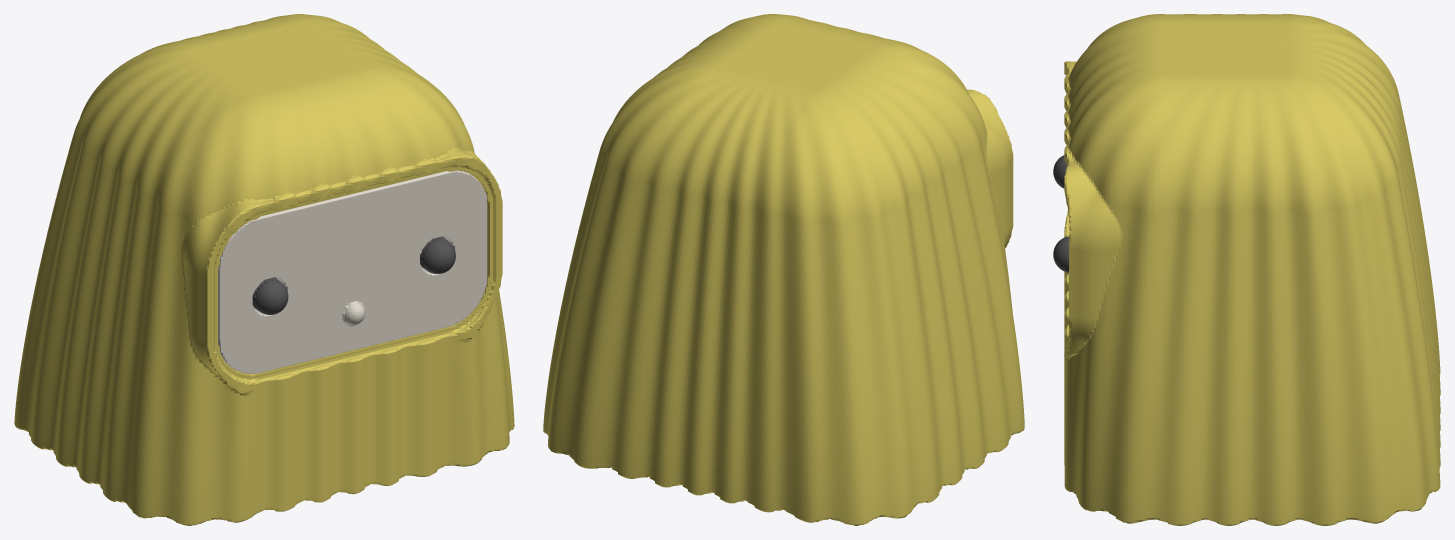
The model's file is bloki_huevo.glb.
3 views of the same model, side by side, from view 1: azimuth 30°, elevation 25°; view 2: azimuth 150°, elevation 25°; view 3: azimuth 270°, elevation 25° (orthographic). The views are drawn at different scales.
Parts seen in each view (by area): view 1: world; view 2: world; view 3: world.
Boxes of the visible parts, x1,y1,x2,y2 form: world: (14, 14, 514, 525); world: (543, 14, 1024, 525); world: (1053, 14, 1440, 525).
Size of the model in its own units: 36.96 by 34.5 by 31.71.
